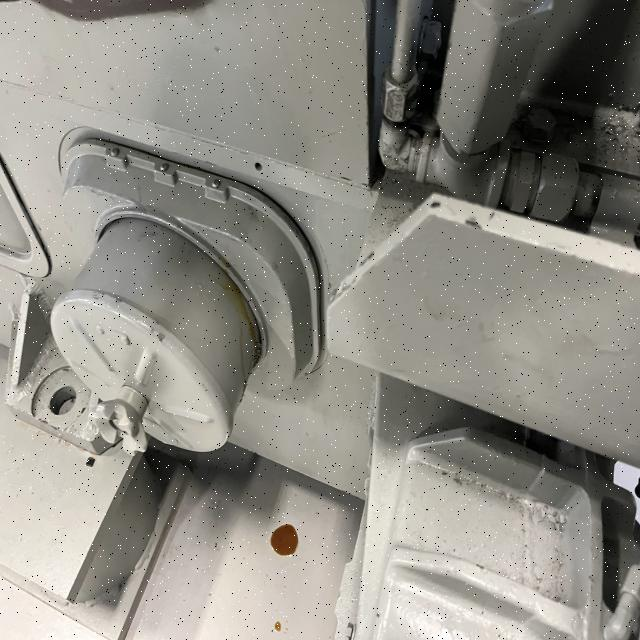Oil Leak: (204, 250, 283, 417), (270, 523, 299, 556)
